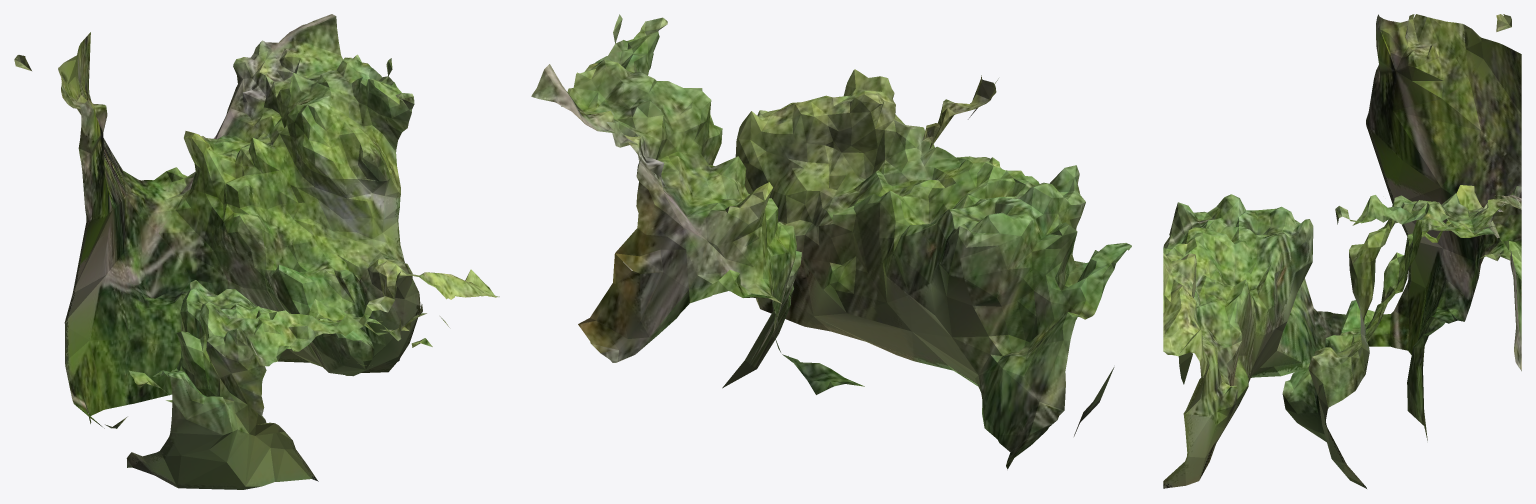
The picture shows the model from 3 angles, left to right: view 1: azimuth 30°, elevation 25°; view 2: azimuth 150°, elevation 25°; view 3: azimuth 270°, elevation 25°; orthographic projection. The views are drawn at different scales.
Size of the model in its own units: 5.9 by 5.9 by 5.9.
Materials: 6 (6 with a texture image).
